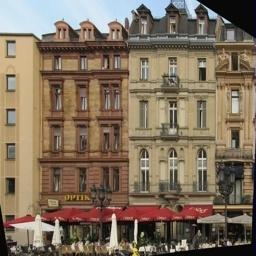building: (133, 2, 222, 256), (35, 17, 128, 256)
